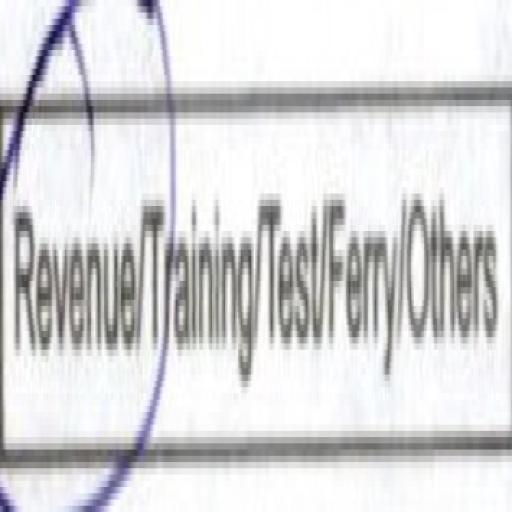check: (2, 52, 142, 512)
